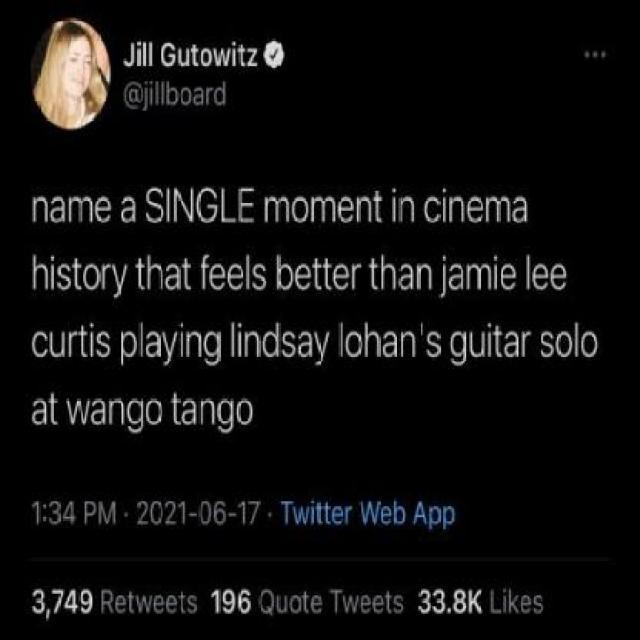0: (149, 500, 163, 525), (198, 500, 212, 525)
1: (212, 589, 220, 614), (32, 501, 40, 524), (178, 500, 184, 525), (238, 500, 244, 525)
2: (137, 500, 148, 525), (166, 502, 177, 524)
3: (32, 588, 46, 616), (418, 588, 432, 616), (432, 589, 446, 614), (49, 501, 62, 524)
4: (62, 500, 76, 525), (64, 589, 78, 614)
6: (238, 588, 252, 616), (213, 500, 227, 526)
7: (50, 589, 64, 614), (247, 500, 260, 525), (51, 589, 64, 614)
8: (453, 589, 467, 614)
9: (79, 589, 93, 614), (222, 590, 236, 615)
A: (164, 262, 182, 290), (397, 263, 414, 291), (448, 263, 464, 291), (32, 397, 48, 425), (504, 331, 520, 358), (50, 196, 66, 222), (383, 330, 397, 358), (182, 398, 196, 426), (147, 331, 161, 358), (298, 331, 312, 358), (120, 196, 134, 222), (92, 398, 106, 424), (413, 499, 427, 524), (513, 198, 527, 222), (192, 85, 205, 106)
B: (277, 254, 294, 288), (166, 81, 179, 105), (394, 500, 404, 526)
C: (424, 198, 440, 222), (32, 332, 48, 356)
D: (262, 321, 280, 357), (214, 82, 226, 106)
E: (238, 188, 256, 223), (498, 263, 517, 291), (466, 194, 484, 223), (337, 195, 355, 223), (294, 262, 312, 290), (532, 262, 550, 290), (226, 262, 243, 290), (549, 262, 566, 290), (333, 262, 350, 290), (208, 264, 226, 288), (95, 198, 112, 222), (309, 594, 323, 616), (372, 594, 386, 616), (519, 592, 532, 614), (330, 506, 344, 526), (152, 594, 166, 614), (165, 594, 178, 614), (358, 596, 371, 616), (380, 506, 392, 526), (114, 595, 126, 614)
F: (200, 254, 208, 288)
G: (196, 186, 218, 222), (203, 330, 222, 364), (450, 332, 468, 366), (127, 398, 144, 433), (217, 398, 234, 433), (161, 42, 176, 67)
H: (380, 252, 396, 291), (32, 253, 48, 290), (148, 256, 164, 290), (366, 321, 380, 356)
I: (486, 321, 492, 357), (392, 188, 398, 222), (50, 254, 55, 288), (166, 189, 171, 223), (310, 500, 316, 525), (136, 42, 142, 66), (494, 254, 498, 288), (442, 189, 446, 222), (91, 323, 94, 359), (233, 38, 236, 66), (503, 588, 506, 614), (150, 81, 153, 105), (180, 322, 182, 356), (238, 322, 240, 356)
J: (122, 42, 136, 67), (441, 254, 447, 300), (142, 81, 148, 112)
K: (468, 590, 482, 613), (508, 588, 520, 614)
L: (221, 188, 236, 223), (491, 591, 502, 614), (338, 320, 344, 358), (526, 253, 531, 290), (148, 42, 154, 66), (247, 252, 250, 290), (140, 324, 143, 358), (576, 320, 578, 358), (143, 42, 146, 66), (161, 81, 164, 105), (232, 322, 234, 356), (156, 82, 158, 104)
M: (264, 196, 290, 224), (310, 195, 336, 223), (69, 195, 94, 223), (486, 195, 511, 223), (466, 263, 492, 288), (98, 500, 115, 526)
N: (173, 188, 194, 222), (185, 331, 202, 358), (356, 196, 372, 224), (200, 399, 216, 427), (417, 263, 432, 291), (108, 398, 124, 424), (450, 194, 464, 223), (244, 332, 260, 357), (402, 330, 416, 358), (400, 195, 414, 223), (32, 198, 48, 222)
O: (290, 194, 310, 223), (554, 330, 574, 358), (236, 398, 253, 428), (344, 329, 362, 357), (83, 263, 100, 291), (146, 397, 162, 426), (580, 331, 597, 358), (288, 594, 302, 614), (198, 49, 212, 66), (179, 88, 192, 106)
P: (119, 332, 138, 366), (83, 500, 97, 526), (428, 507, 441, 530), (442, 506, 455, 529)
Q: (258, 588, 276, 616)
R: (100, 589, 114, 614), (101, 262, 112, 292), (67, 330, 78, 358), (522, 330, 532, 358), (352, 264, 360, 288), (205, 86, 213, 106), (344, 506, 352, 526)
S: (145, 188, 164, 223), (540, 330, 554, 358), (282, 331, 296, 358), (426, 331, 440, 358), (251, 264, 266, 288), (58, 264, 72, 288), (97, 332, 111, 356), (186, 594, 199, 616), (532, 595, 545, 614), (393, 595, 404, 614)
T: (492, 326, 503, 357), (78, 326, 88, 360), (280, 500, 294, 523), (182, 258, 192, 290), (322, 258, 332, 290), (369, 256, 378, 290), (50, 392, 59, 426), (330, 589, 342, 614), (73, 257, 81, 291), (172, 392, 180, 426), (374, 190, 382, 223), (313, 258, 321, 291), (136, 258, 144, 290), (192, 44, 200, 67), (128, 591, 136, 614), (384, 590, 392, 612), (316, 500, 322, 526), (303, 591, 309, 614), (238, 45, 244, 67), (324, 502, 330, 524), (180, 592, 186, 614)
U: (470, 331, 486, 358), (49, 332, 65, 356), (276, 595, 290, 614), (178, 49, 191, 66)
W: (67, 398, 90, 426), (359, 502, 381, 524), (212, 47, 232, 67), (292, 506, 310, 526), (136, 594, 152, 616), (343, 596, 359, 615)
Y: (314, 331, 331, 366), (112, 264, 128, 298), (162, 331, 176, 366)
Z: (246, 47, 259, 67)
